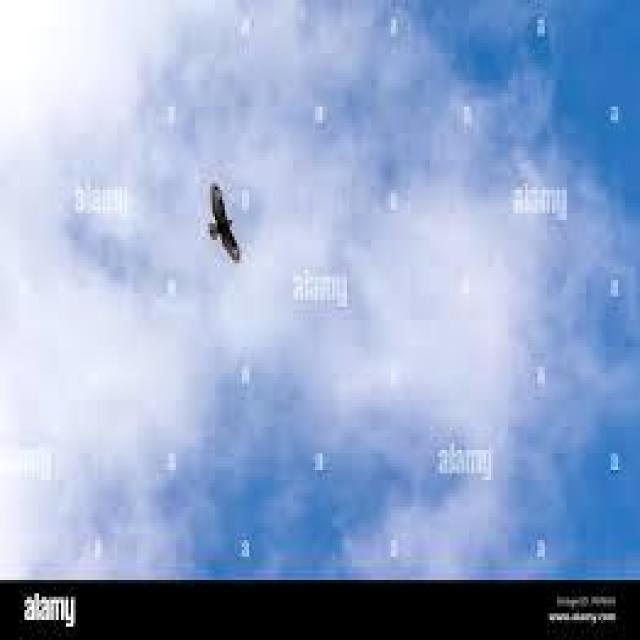bird: (204, 180, 247, 264)
